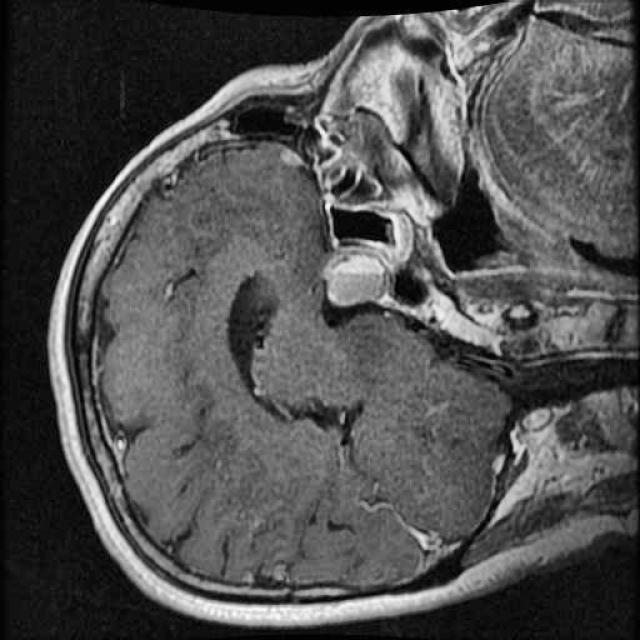Tumor: (314, 250, 394, 318)
